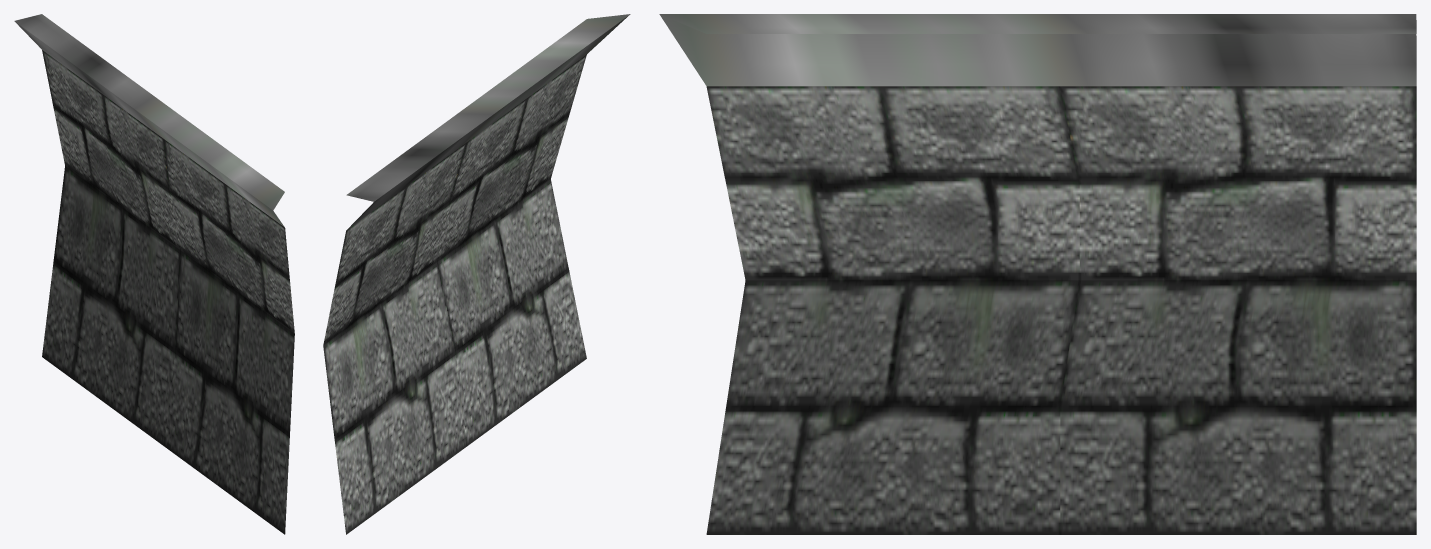
The model's file is W_A2l_xx [GroßeGraueZiegel]_2462.glb.
3 renders of one model, left to right at view 1: azimuth 30°, elevation 25°; view 2: azimuth 150°, elevation 25°; view 3: azimuth 270°, elevation 25°, orthographic. The views are drawn at different scales.
Parts seen in each view (by area): view 1: pPlaneShape1, polySurfaceShape1065; view 2: pPlaneShape1, polySurfaceShape1065; view 3: pPlaneShape1, polySurfaceShape1065.
Part boxes in pixels (x1=…): pPlaneShape1: x1=42, y1=50, x2=294, y2=534; polySurfaceShape1065: x1=14, y1=14, x2=284, y2=227; pPlaneShape1: x1=323, y1=54, x2=586, y2=534; polySurfaceShape1065: x1=346, y1=14, x2=630, y2=229; pPlaneShape1: x1=706, y1=86, x2=1416, y2=534; polySurfaceShape1065: x1=659, y1=14, x2=1416, y2=86.
Size of the model in its own units: 0.0607 by 0.3891 by 0.5333.
2 materials, 2 textured.
